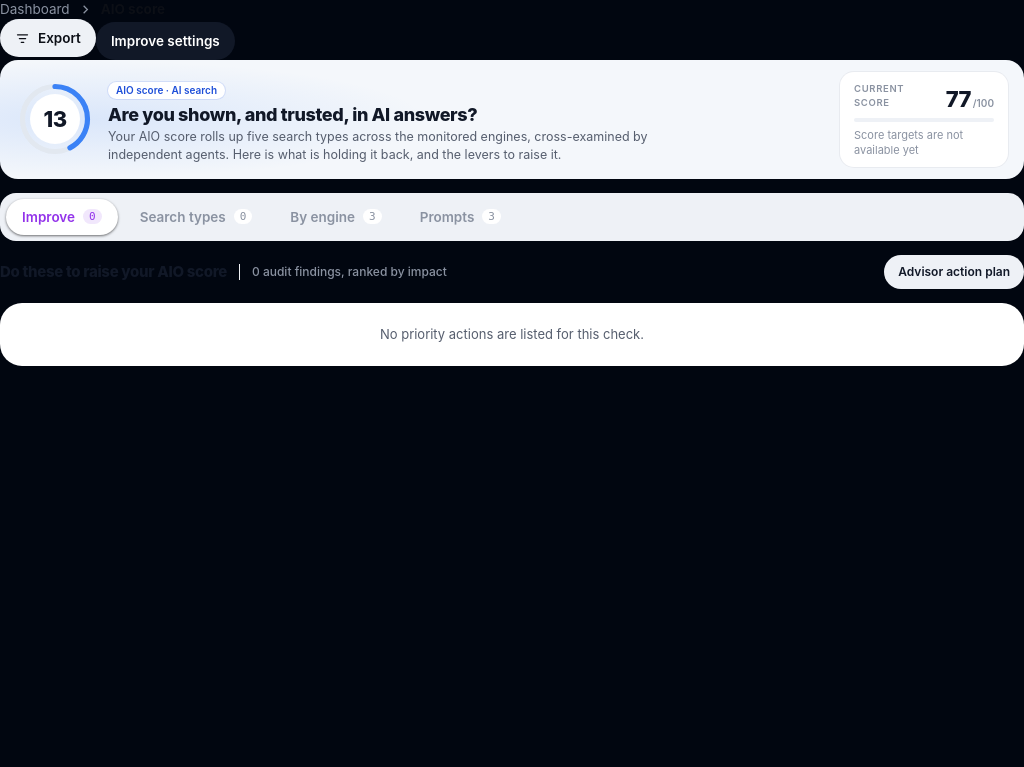
it: ProjectAeoPage (approved AIO detail) › adds a prompt from the Prompts tab without leaving the page
Click the tab "Prompts 3": [460, 217] box [404,199,517,235]
(page scrolled)
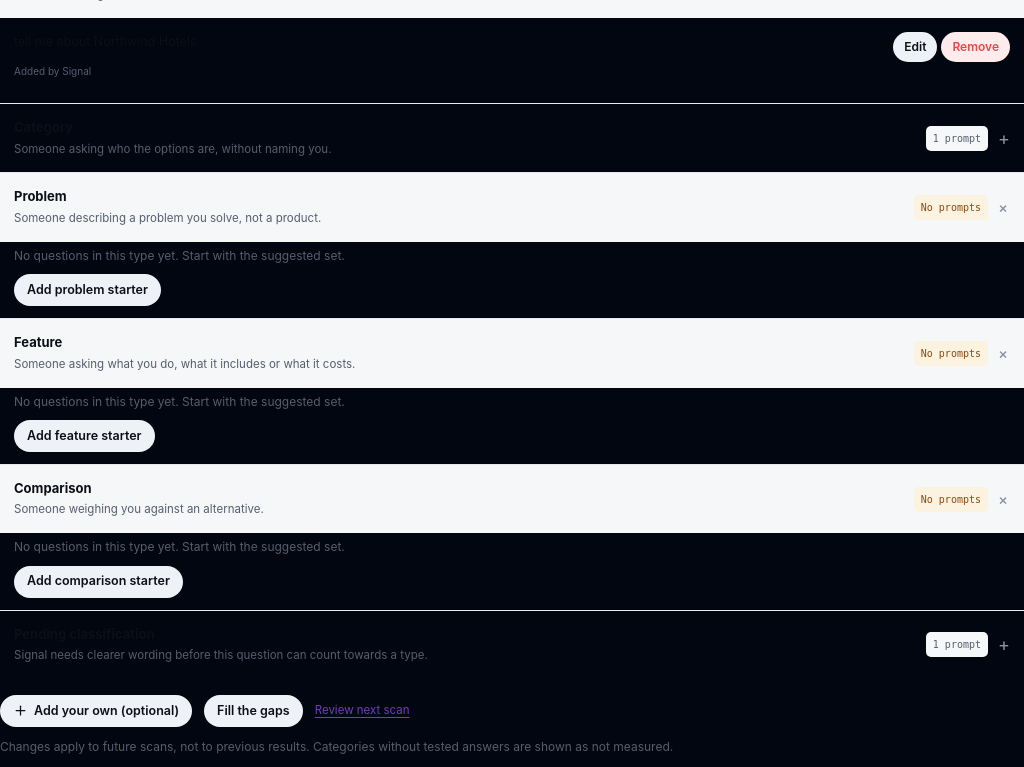
expect the button "Add your own (optional)" is shown: met
Click the button "Add your own (optional)": [96, 711] box [0,695,192,727]
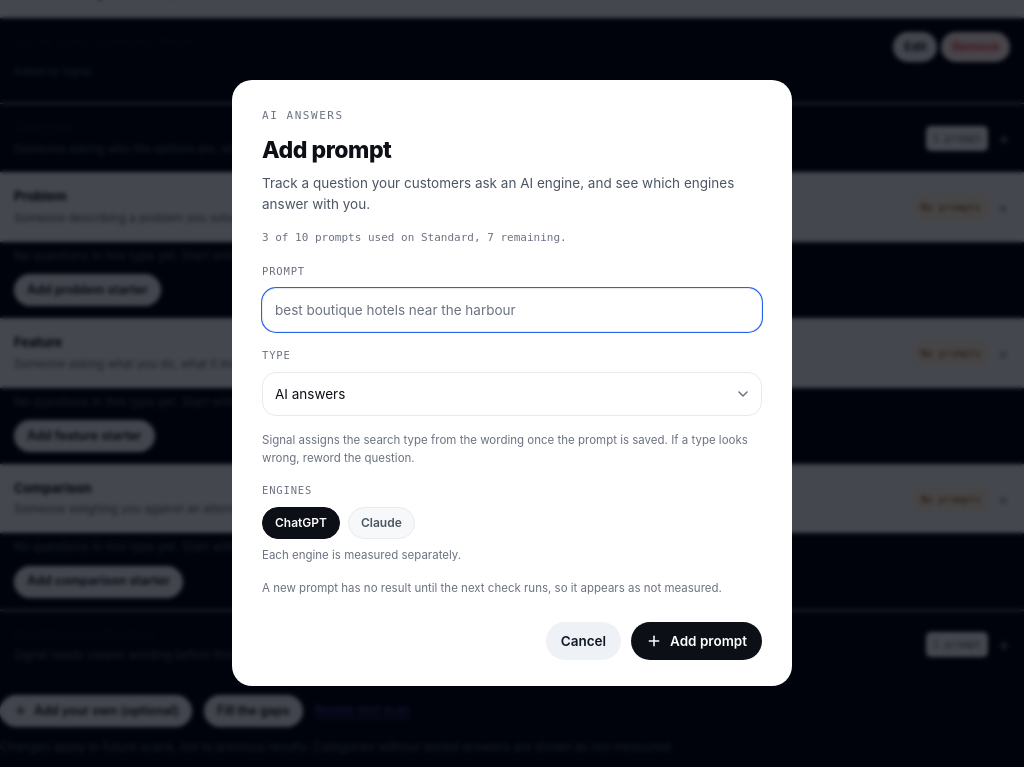
expect the text "3 of 10 prompts used on Standard, 7 remaining." is shown: met, box [262,231,567,244]
In the field with placeholder "best boutique hotels near the harbour": [512, 310] box [262,288,762,332], type "  quiet hotel with a late checkout  "
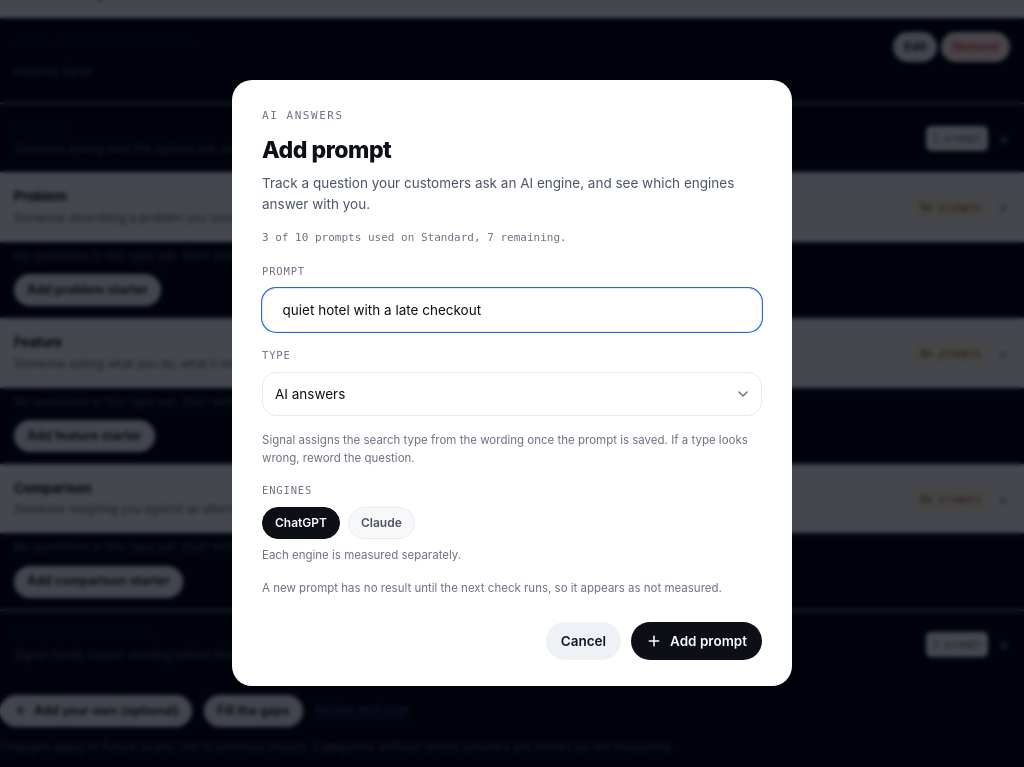
Click the button "Add prompt": [697, 641] box [631,622,762,660]
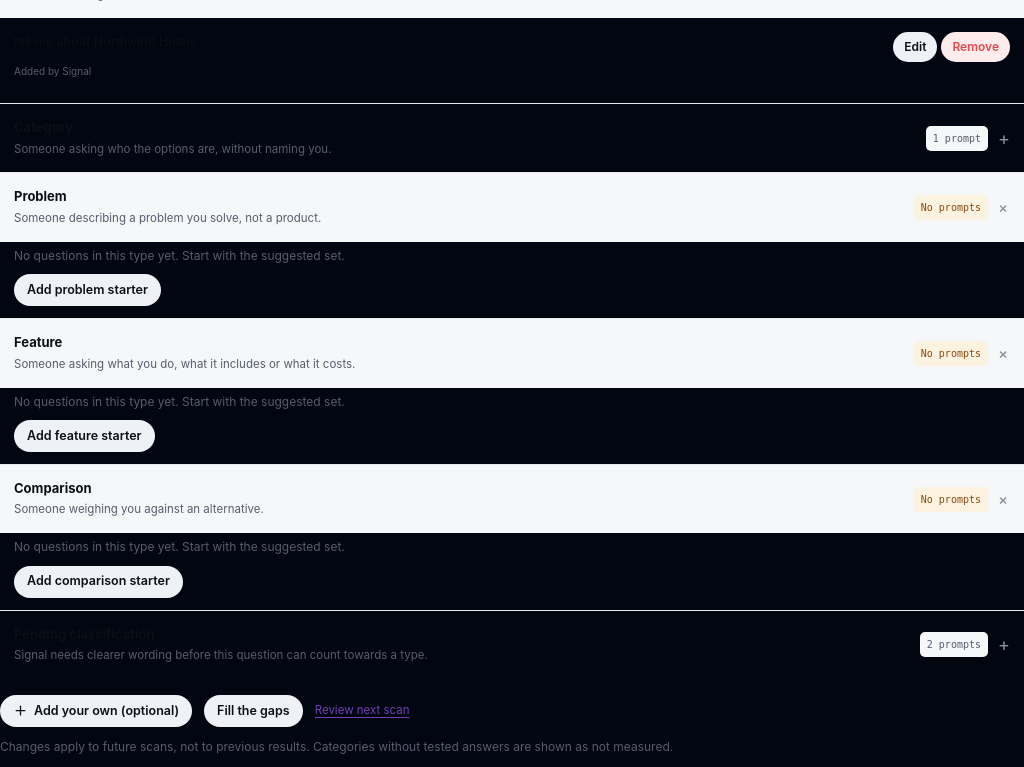
expect the dialog is gone: met
